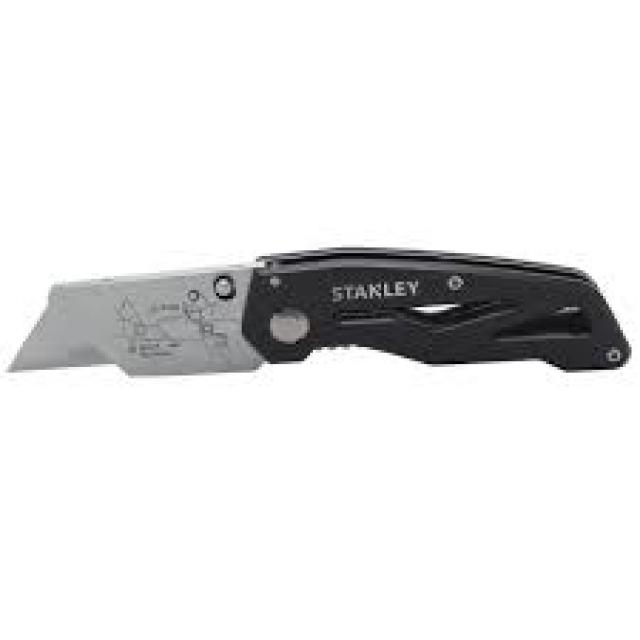knife: (6, 242, 636, 382)
